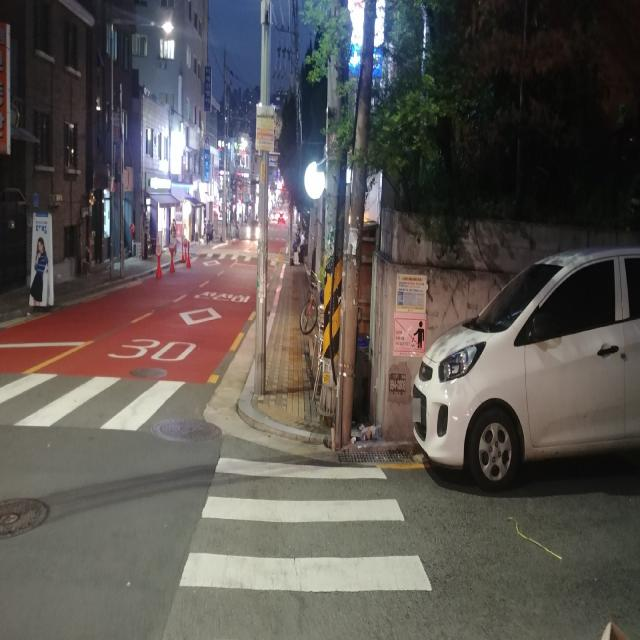횡단보도: (179, 457, 432, 592)
